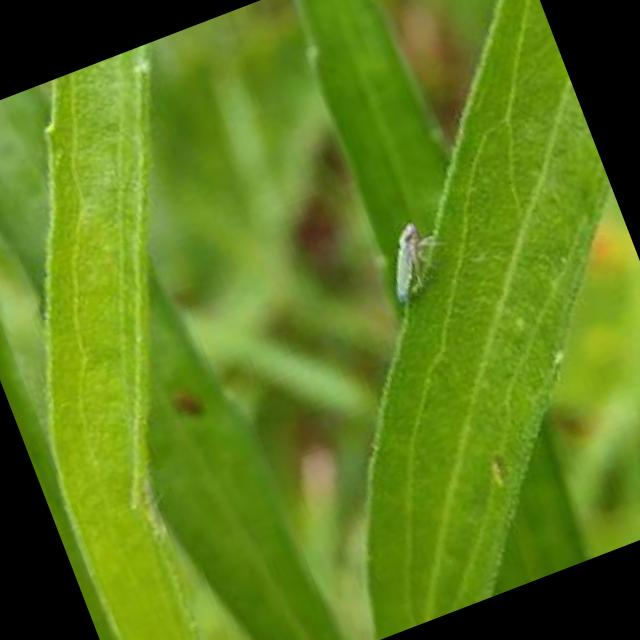green-leafhopper: (371, 220, 450, 310)
